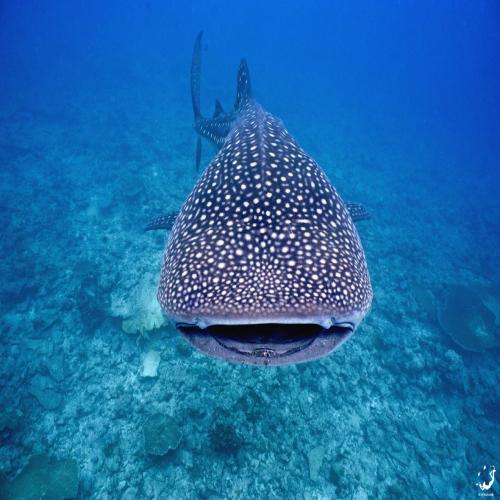shark-endangered: (159, 30, 374, 368)
